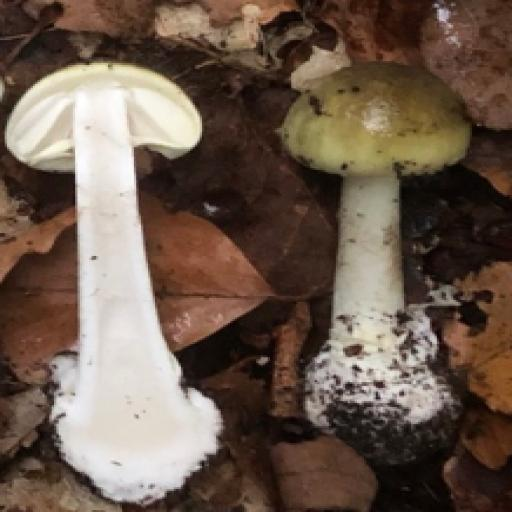mushroom: (0, 57, 225, 510), (279, 58, 484, 441)
